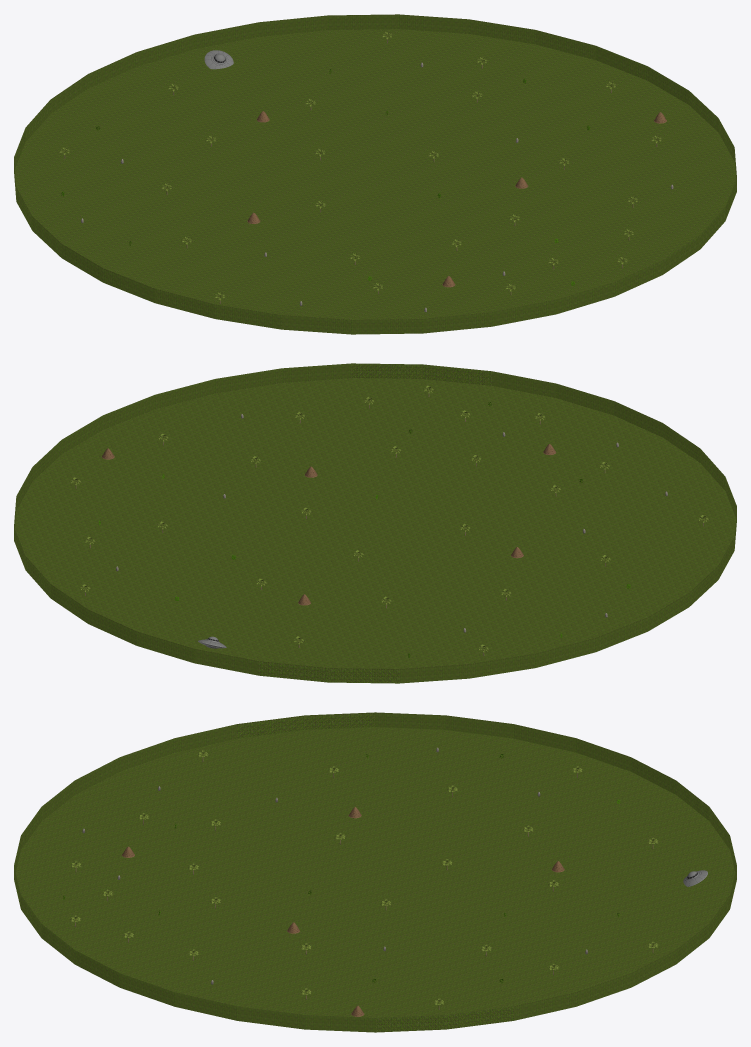
File: dungeon_3.gltf
3 views of the same model, one above another, from view 1: azimuth 30°, elevation 25°; view 2: azimuth 150°, elevation 25°; view 3: azimuth 270°, elevation 25° (orthographic).
Visible parts, largest first — view 1: Circle; view 2: Circle; view 3: Circle.
Boxes of the visible parts, left/top/right/bottom form: Circle: left=14, top=14, right=736, bottom=334; Circle: left=14, top=363, right=736, bottom=683; Circle: left=14, top=712, right=736, bottom=1032.
Bounding box in the file's own units: 300 × 8.14 × 300.
53 materials, 53 textured.
